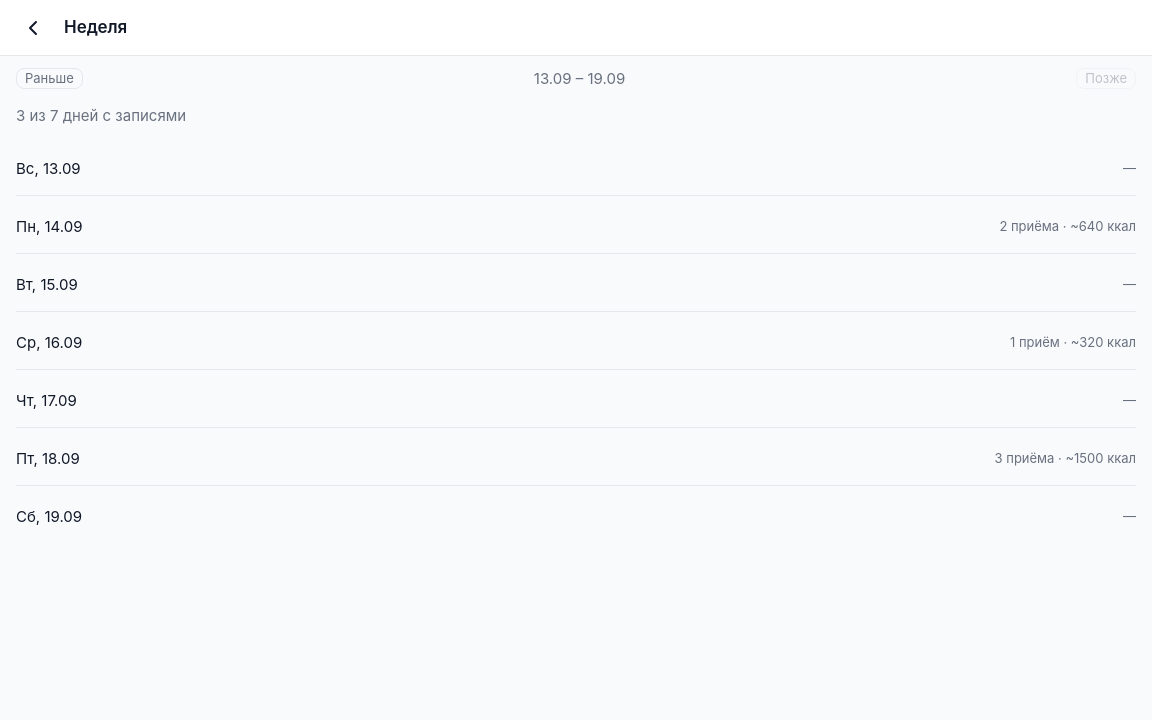
Test: неделя: стрелки › «раньше» просит предыдущую неделю; «позже» на текущей неактивна
Expected: the text "3 из 7 дней с записями" is shown, [16, 106, 186, 125]
Expected: the button "Позже" is disabled, [1076, 68, 1136, 89]
Step 1. Click the button "Раньше" → click(49, 78), box [16, 68, 83, 89]
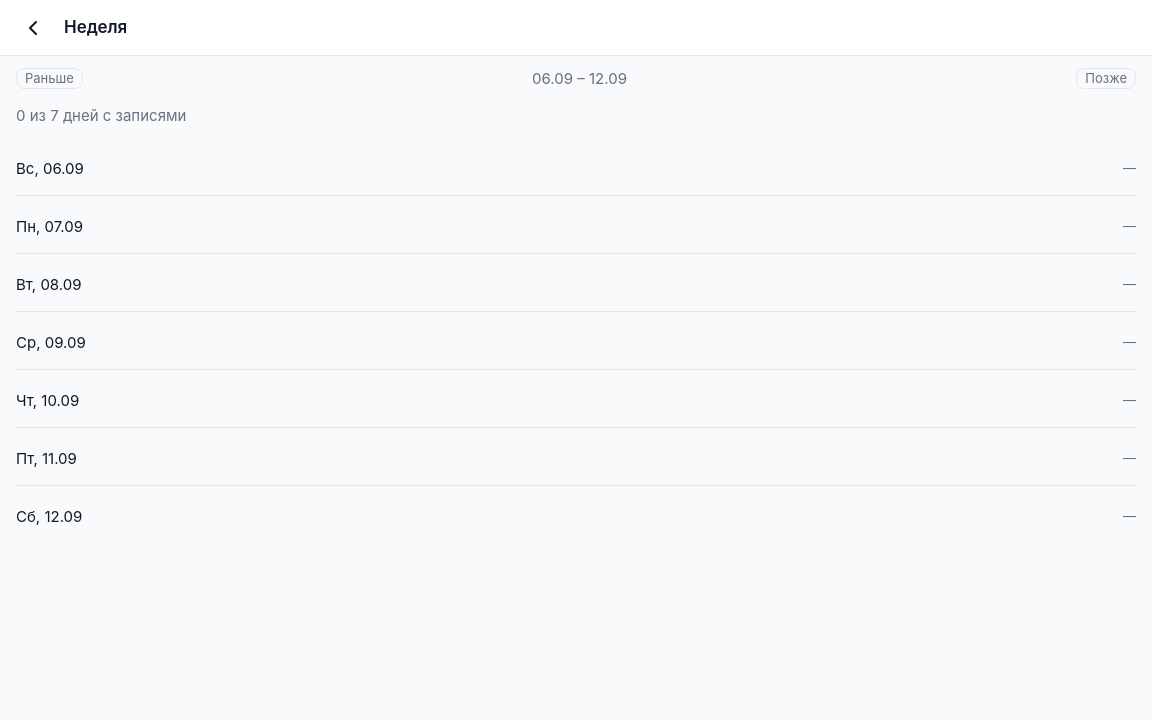
Expected: the button "Позже" is enabled, [1076, 68, 1136, 89]
